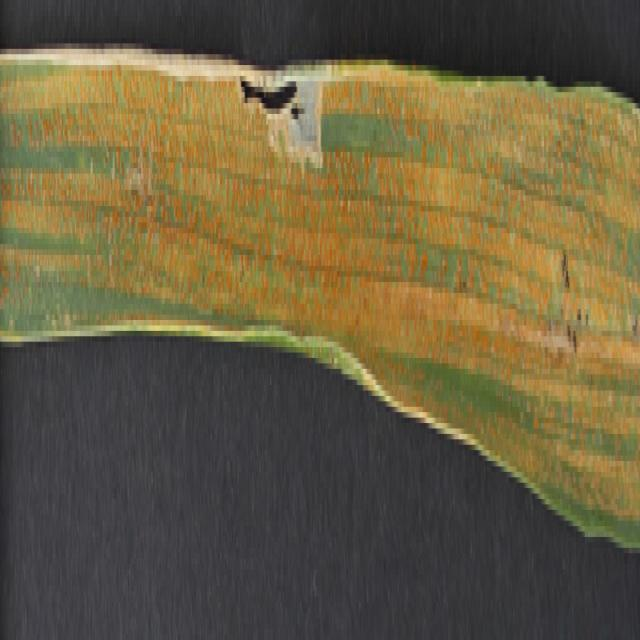leaf rust: (327, 43, 640, 521), (2, 38, 237, 342), (238, 168, 325, 347)
